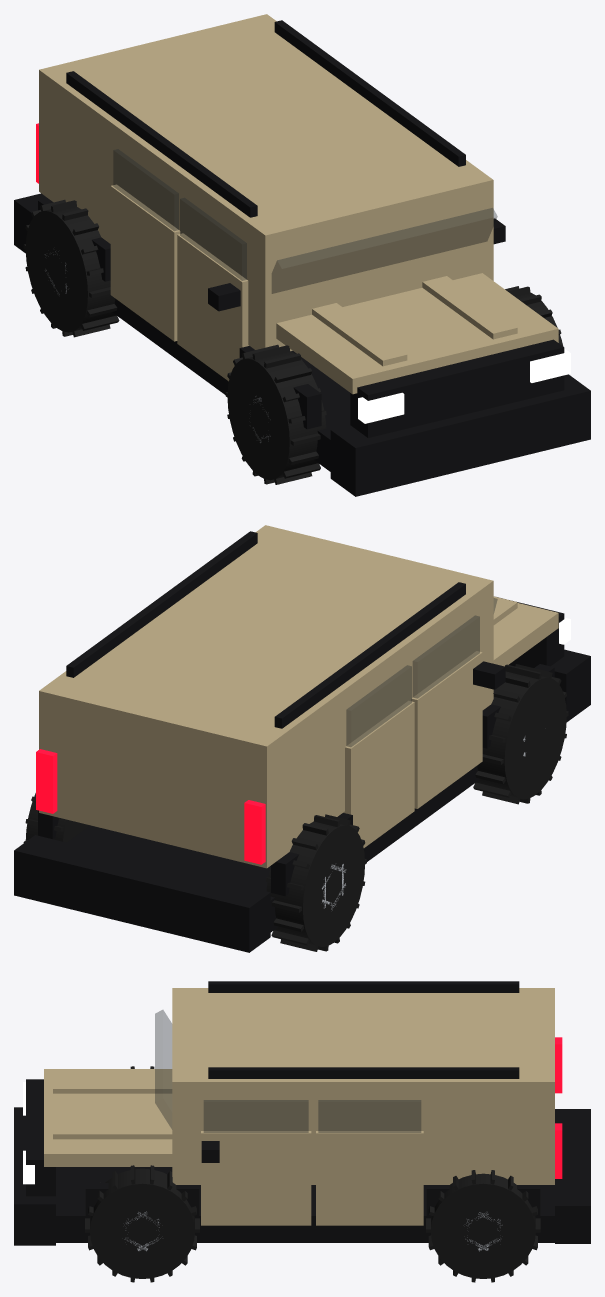
Rendered from prado.glb.
3 views of the same model, one above another, from view 1: azimuth 30°, elevation 25°; view 2: azimuth 150°, elevation 25°; view 3: azimuth 270°, elevation 25° (orthographic). The views are drawn at different scales.
Parts seen in each view (by area): view 1: Body, Hood, Door_R_L, Door_F_L, Wheel_FL, Wheel_RL, Wheel_FR; view 2: Body, Door_F_L, Door_R_L, Wheel_RL, Wheel_FL, Hood, Wheel_RR; view 3: Body, Door_F_R, Door_R_R, Hood, Wheel_FR, Wheel_RR.
Part boxes in pixels (left/top/right/bottom): Body: left=14, top=14, right=590, bottom=496; Hood: left=276, top=273, right=558, bottom=394; Door_R_L: left=110, top=149, right=180, bottom=341; Door_F_L: left=177, top=198, right=248, bottom=381; Wheel_FL: left=225, top=344, right=326, bottom=484; Wheel_RL: left=23, top=199, right=119, bottom=337; Wheel_FR: left=505, top=286, right=563, bottom=346; Body: left=14, top=525, right=590, bottom=952; Door_F_L: left=411, top=615, right=505, bottom=808; Door_R_L: left=343, top=665, right=414, bottom=847; Wheel_RL: left=266, top=814, right=366, bottom=951; Wheel_FL: left=473, top=664, right=568, bottom=804; Hood: left=493, top=596, right=558, bottom=666; Wheel_RR: left=23, top=793, right=90, bottom=842; Body: left=14, top=981, right=590, bottom=1245; Door_F_R: left=201, top=1100, right=311, bottom=1225; Door_R_R: left=316, top=1100, right=423, bottom=1225; Hood: left=44, top=1069, right=172, bottom=1166; Wheel_FR: left=85, top=1165, right=199, bottom=1282; Wheel_RR: left=426, top=1170, right=540, bottom=1282.
Bounding box in the file's own units: 2.34 × 1.85 × 4.83.
